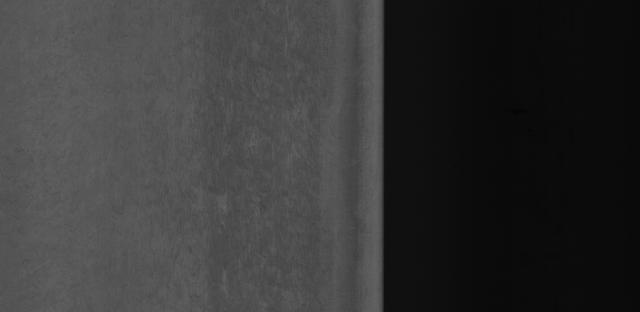silk_spot: (202, 72, 333, 198)
